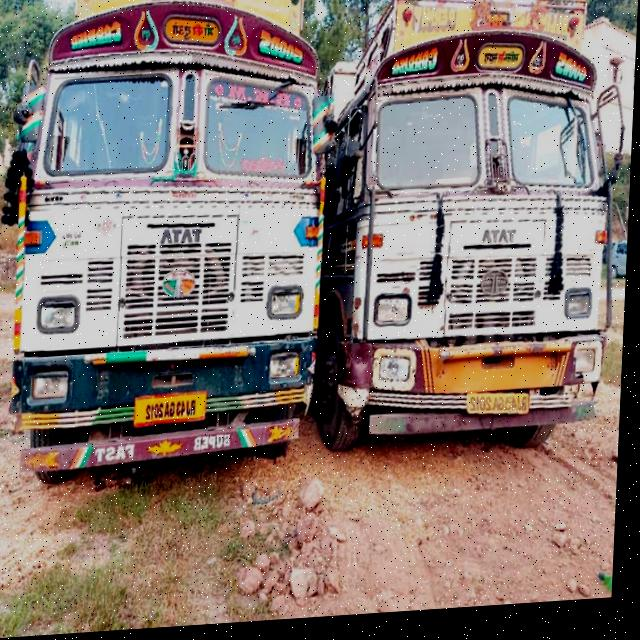plate: (137, 395, 210, 434), (468, 396, 536, 426)
